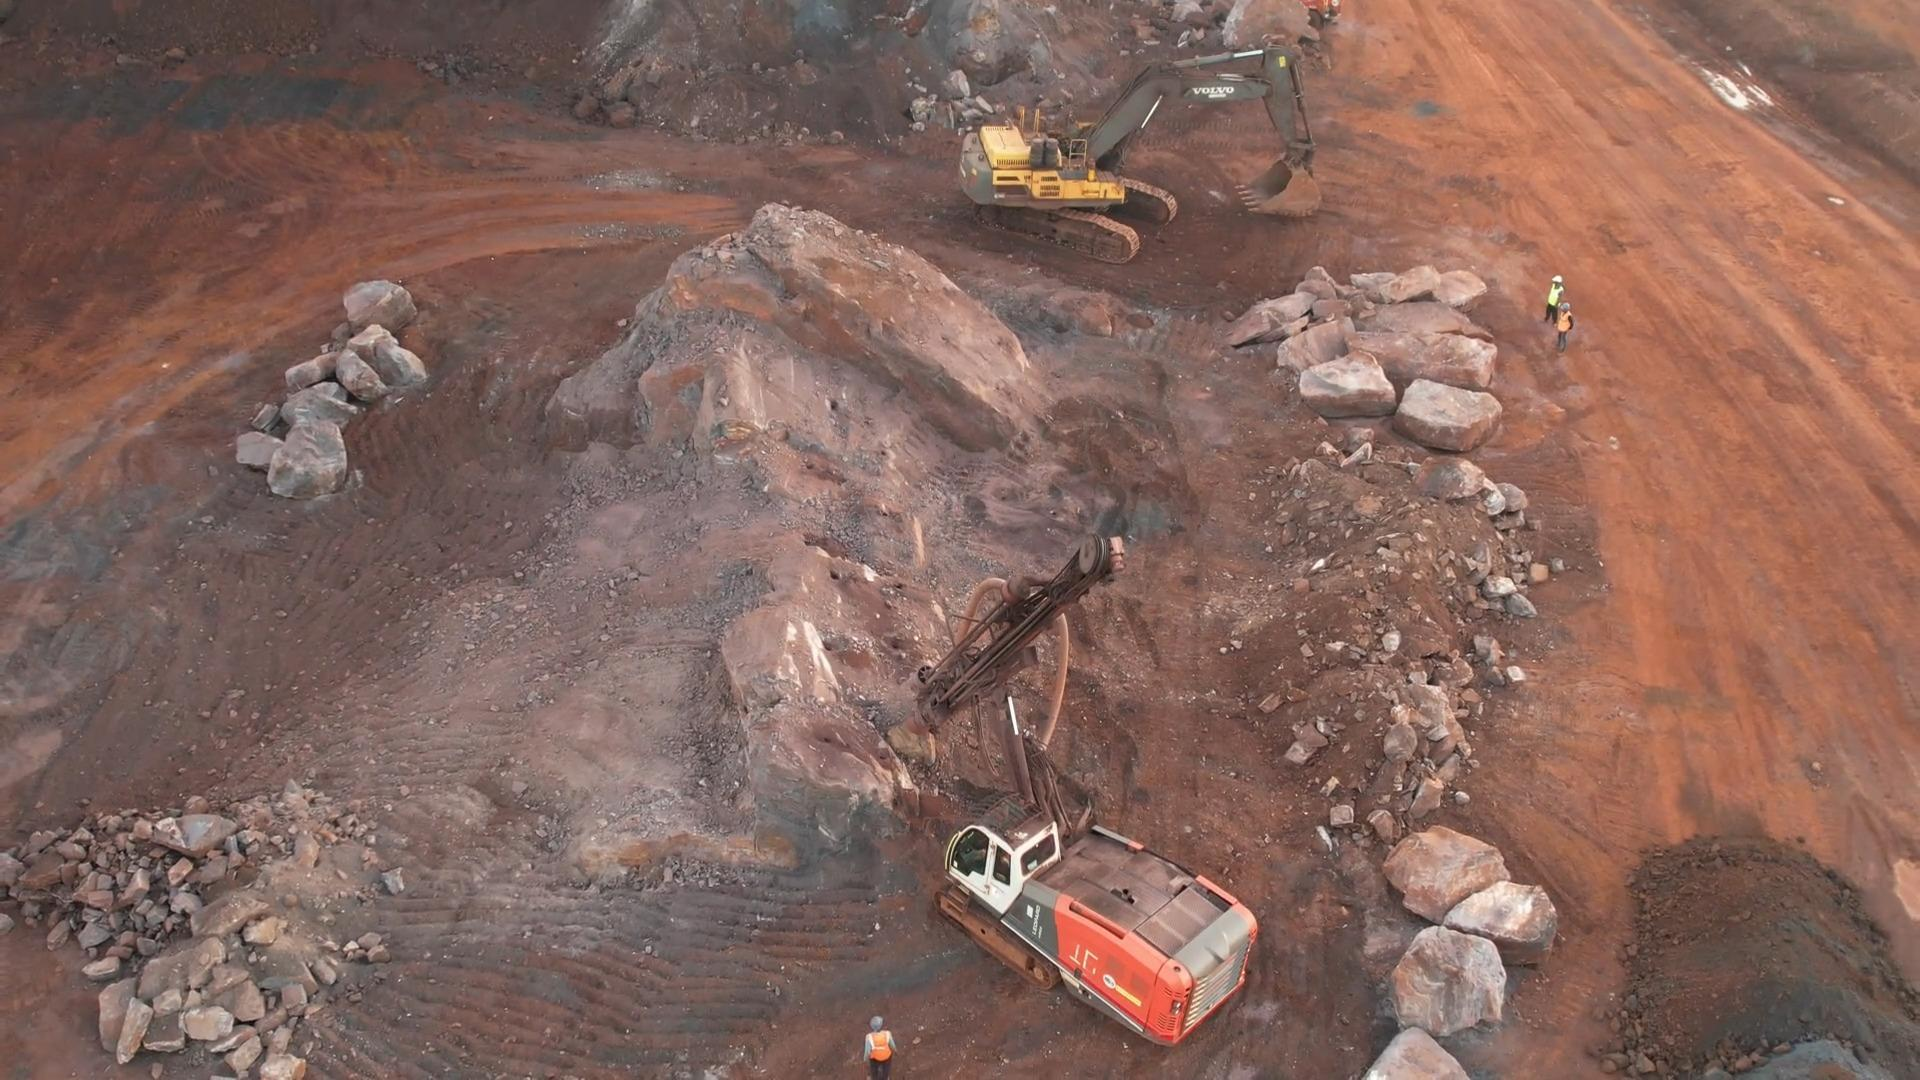excavator: (956, 53, 1307, 229)
